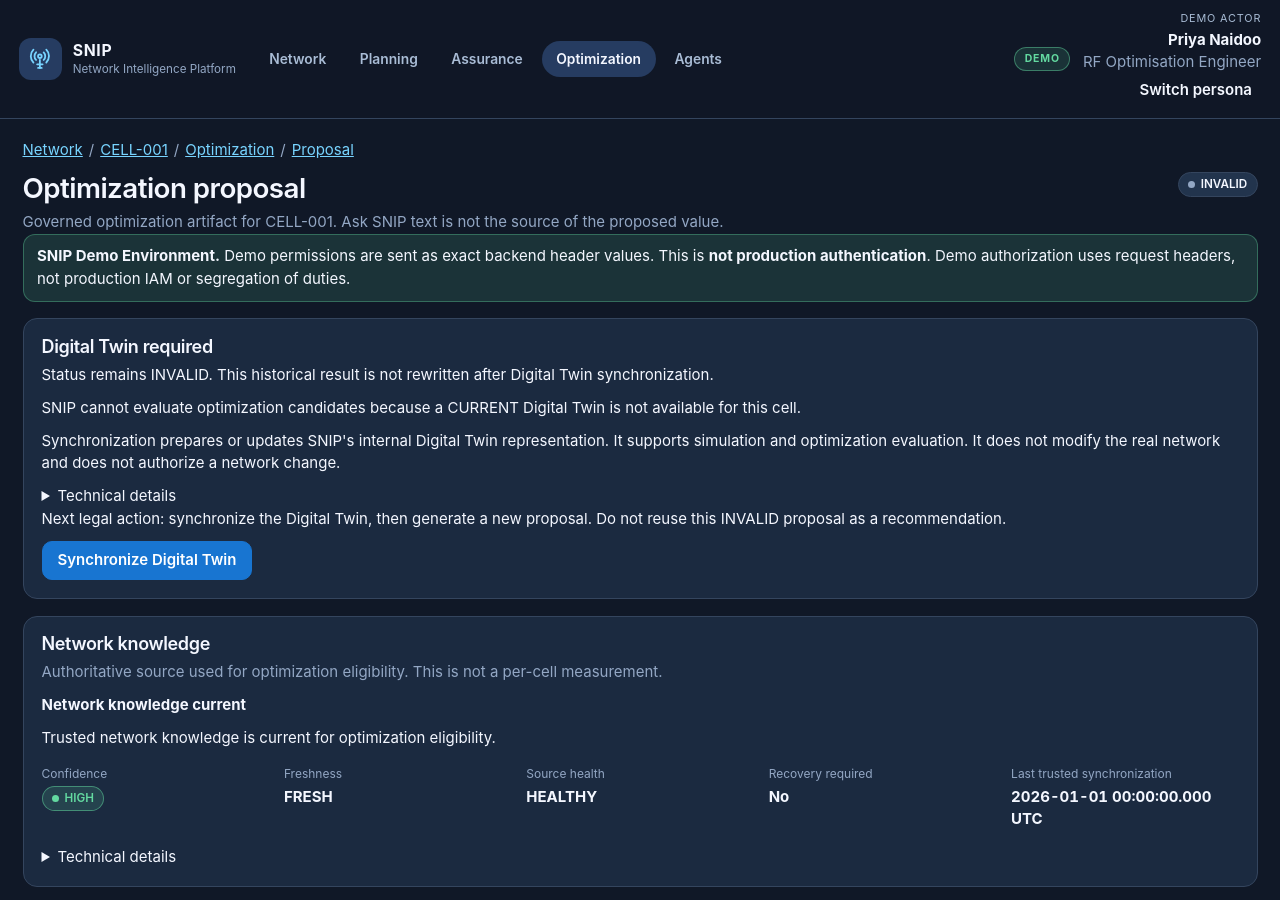
Test: Increment 3 operator workspace › synchronizes the Digital Twin only after an explicit action and does not regenerate
Expected: the heading "Digital Twin required" is shown, [42,336,213,357]
What coordinates should you click on to do the following:
click the button "Synchronize Digital Twin"
I would click on:
 (147, 560)
Its box is [42,541,252,580].
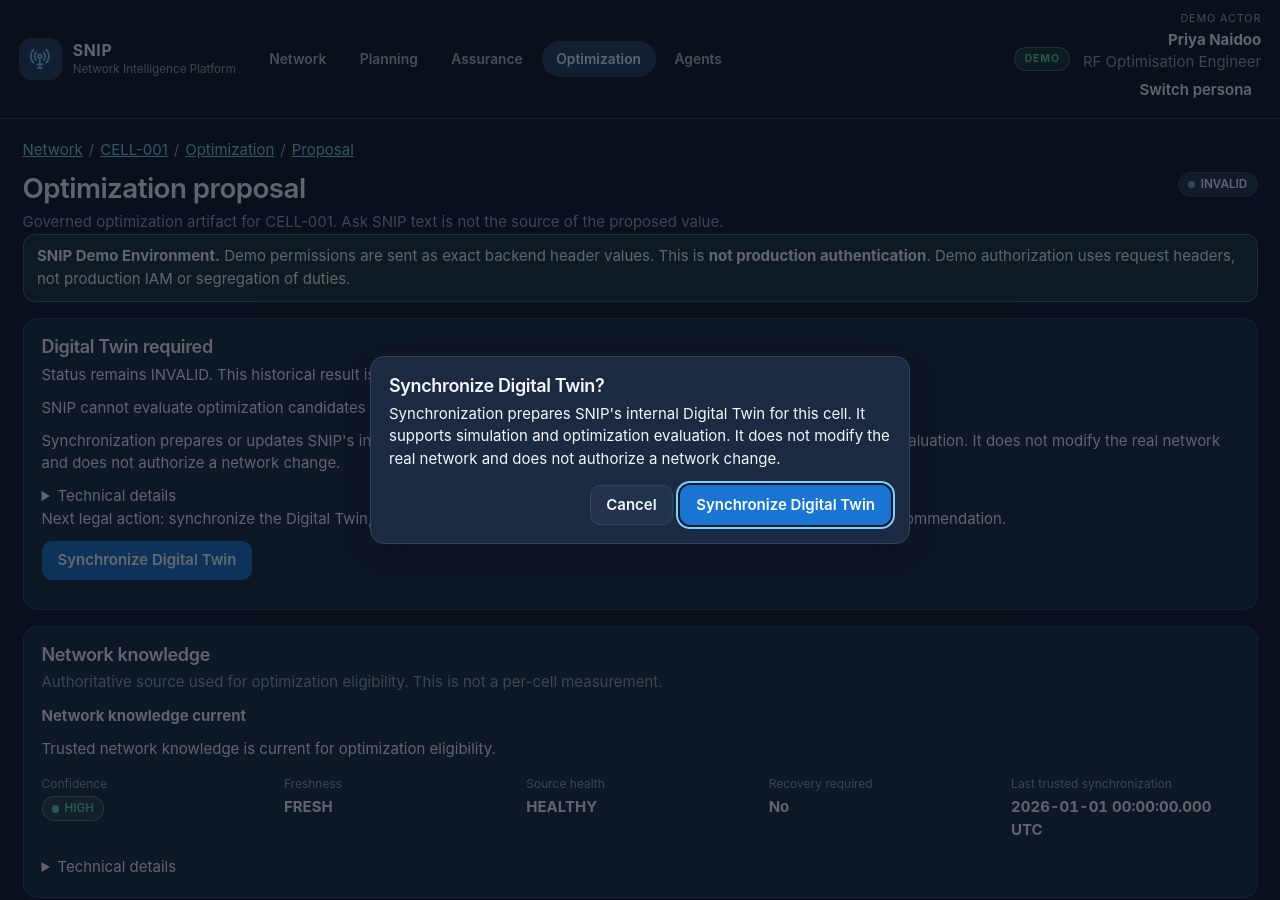
Expected: the dialog shows "does not modify the real network", [389,404,890,468]
Expected: the dialog shows "does not authorize a network change", [389,404,890,468]
What coordinates should you click on to do the following:
click the button "Synchronize Digital Twin"
I would click on:
 (786, 505)
Its box is [680,485,891,525].
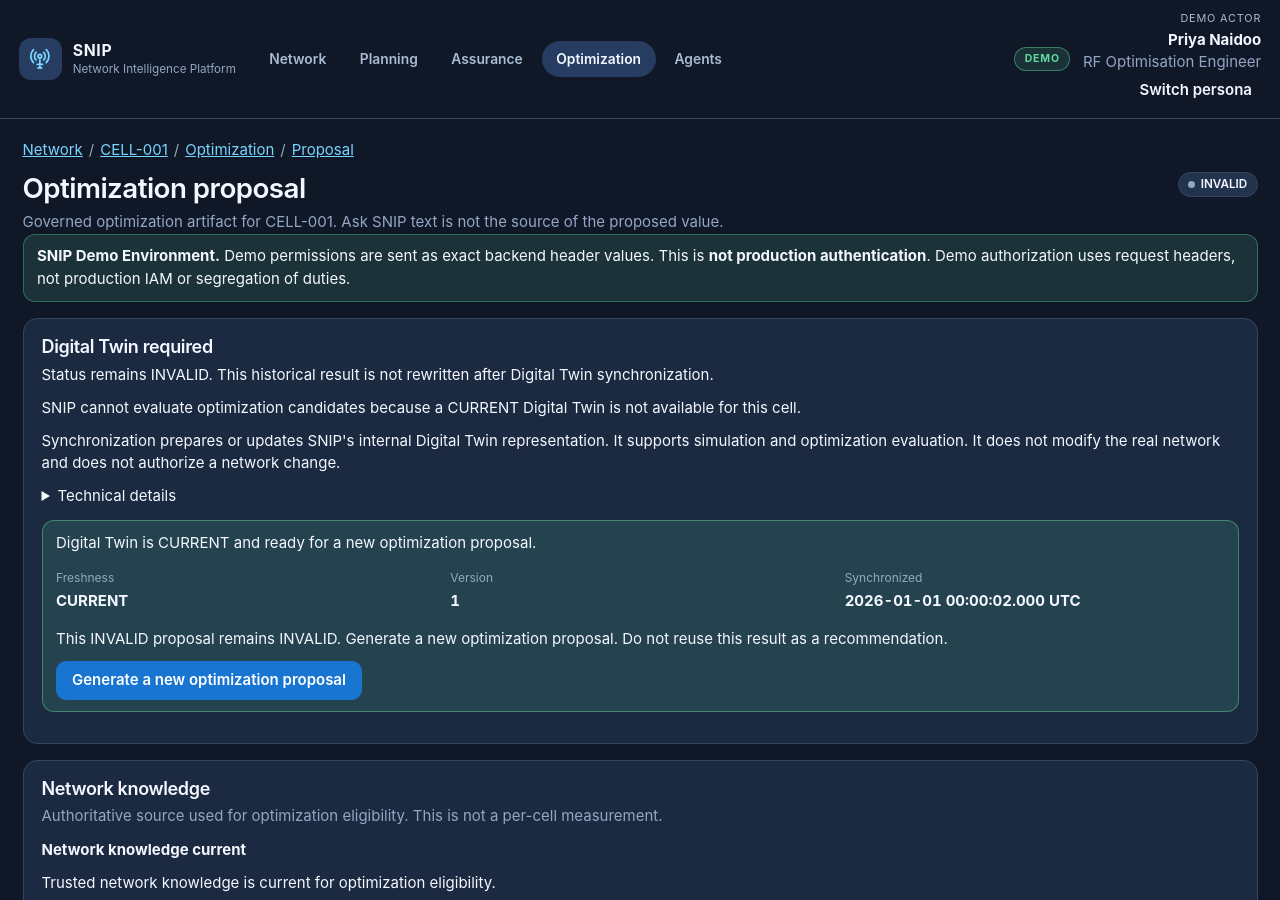
Expected: the text "Digital Twin is CURRENT" is shown, [56,533,536,552]
Expected: the text "This INVALID proposal remains INVALID" is shown, [56,629,948,648]
Expected: the button "Synchronize Digital Twin" is gone
What coordinates should you click on to do the following:
click the link "Generate a new optimization proposal"
I would click on:
 (209, 681)
Its box is [56,661,362,700].
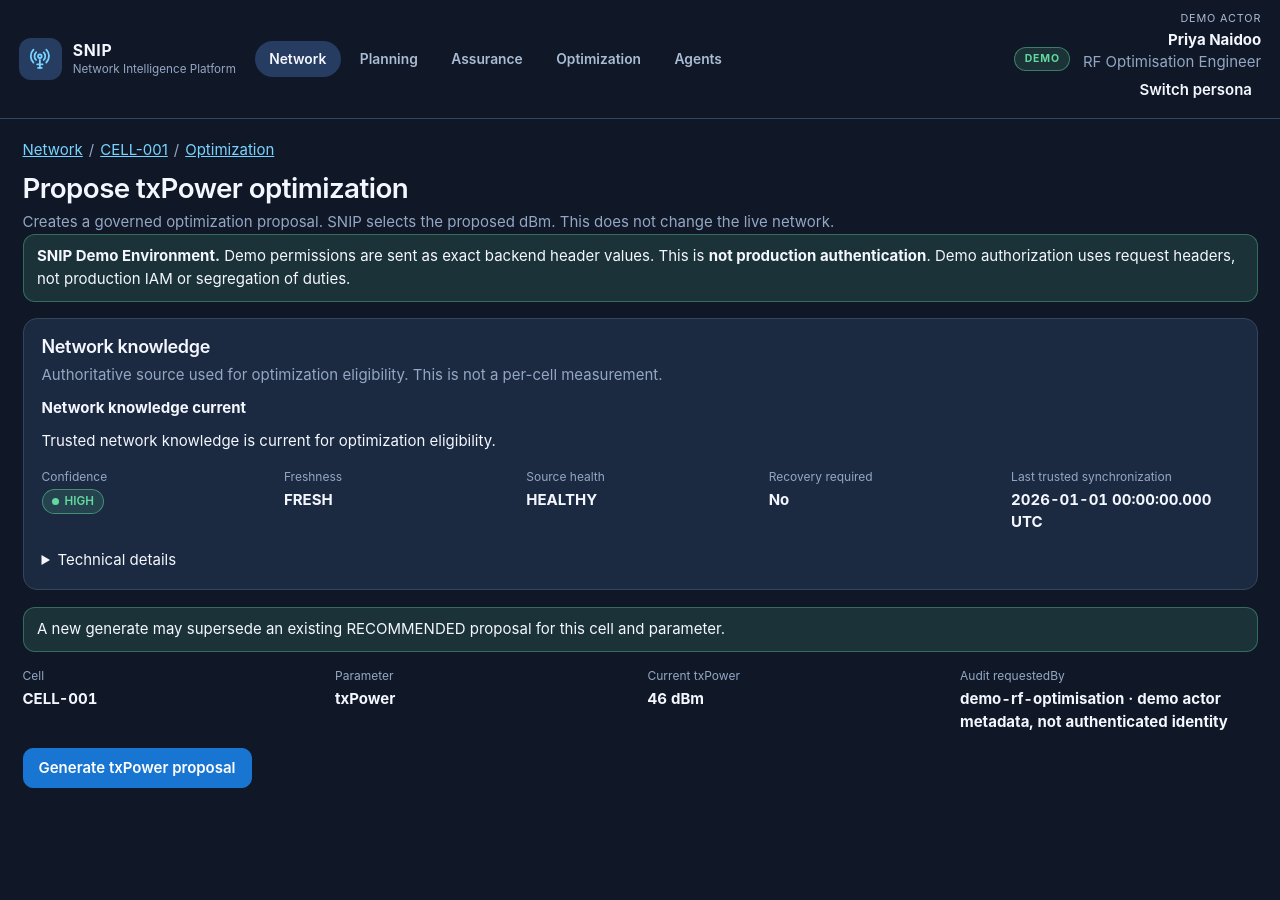
Expected: the heading "Propose txPower optimization" is shown, [22,171,408,205]
Expected: the button "Generate txPower proposal" is shown, [22,748,252,788]
